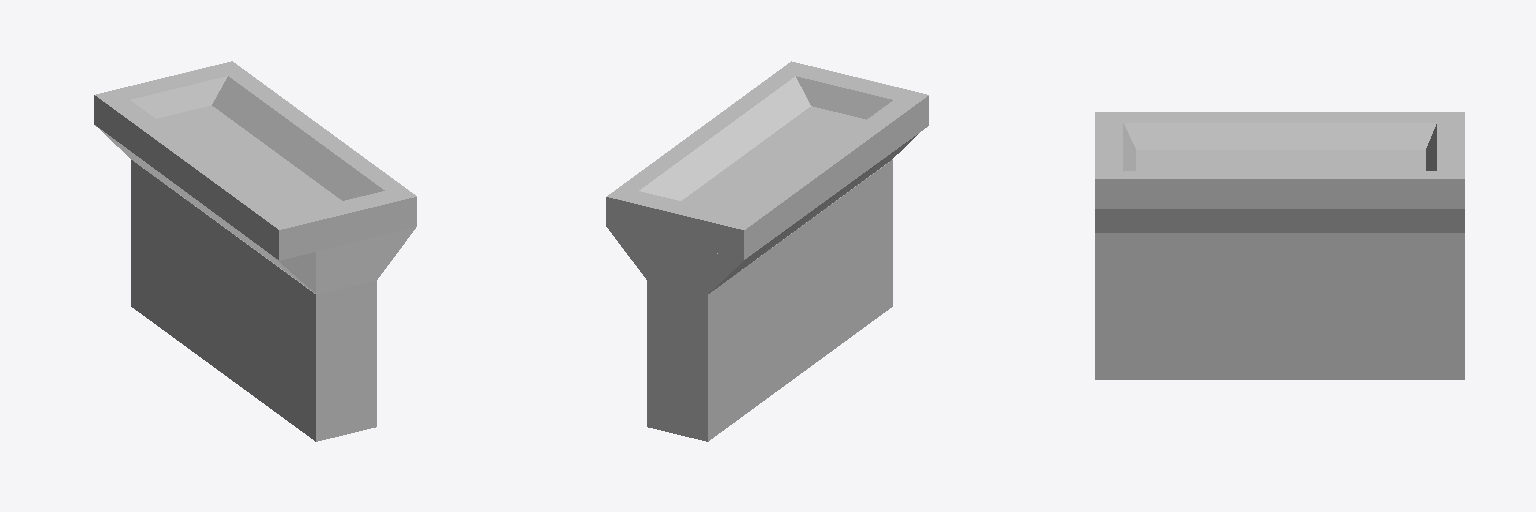
File: Wall.obj
3 views of the same model, side by side, from view 1: azimuth 30°, elevation 25°; view 2: azimuth 150°, elevation 25°; view 3: azimuth 270°, elevation 25° (orthographic).
Visible parts, largest first — view 1: Cube; view 2: Cube; view 3: Cube.
Boxes of the visible parts, x1=… form: Cube: x1=94, y1=61, x2=416, y2=441; Cube: x1=606, y1=61, x2=928, y2=441; Cube: x1=1095, y1=112, x2=1464, y2=379.
Size of the model in its own units: 2.7 by 4.13 by 6.29.